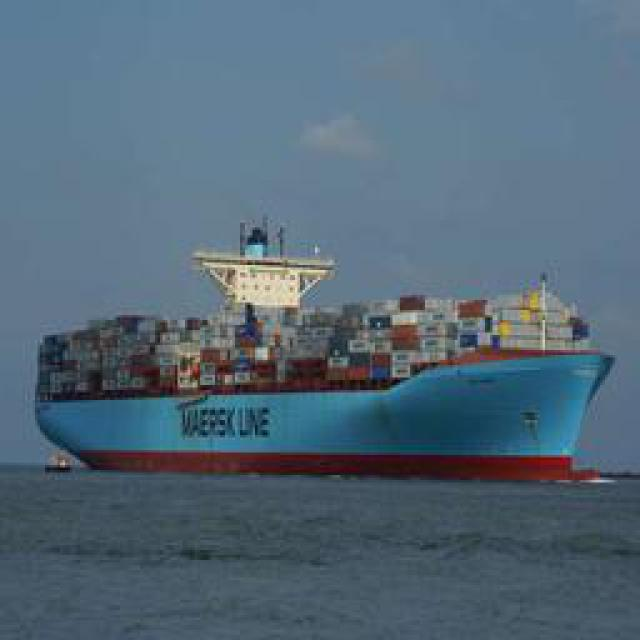Ship: (31, 212, 616, 475)
